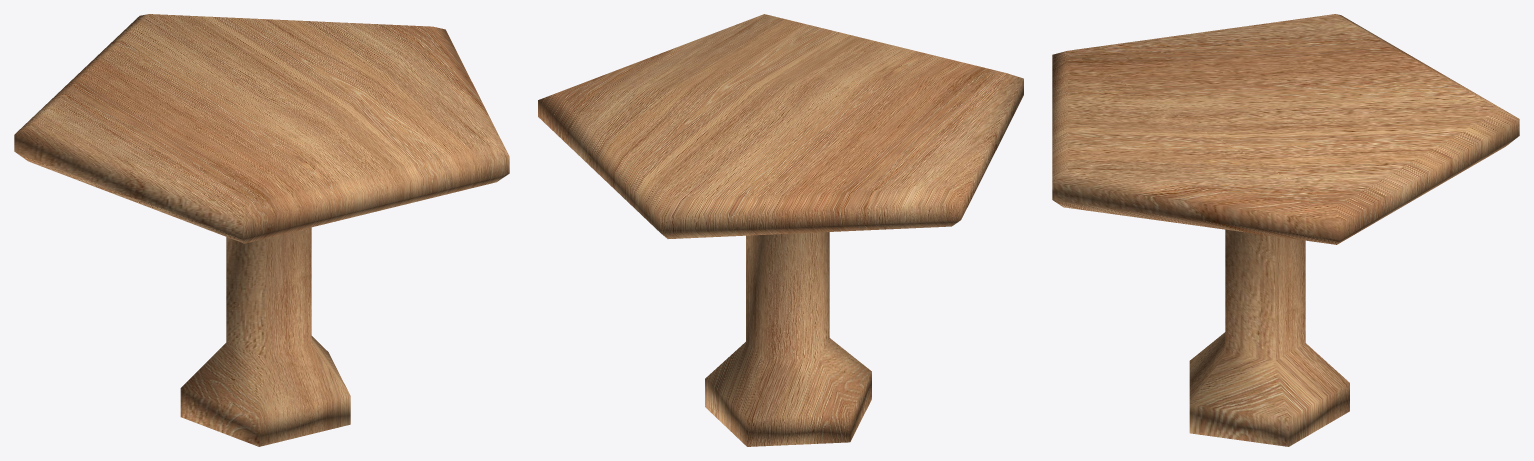
Rendered from table.glb.
3 views of the same model, side by side, from view 1: azimuth 30°, elevation 25°; view 2: azimuth 150°, elevation 25°; view 3: azimuth 270°, elevation 25° (orthographic).
Visible parts, largest first — view 1: Circle.001; view 2: Circle.001; view 3: Circle.001.
Boxes of the visible parts, box(x1,y1,x2,y2) form: Circle.001: box(14, 14, 509, 446); Circle.001: box(538, 14, 1023, 446); Circle.001: box(1052, 14, 1519, 446).
Size of the model in its own units: 2.05 by 1.39 by 1.95.
1 material, 1 textured.
